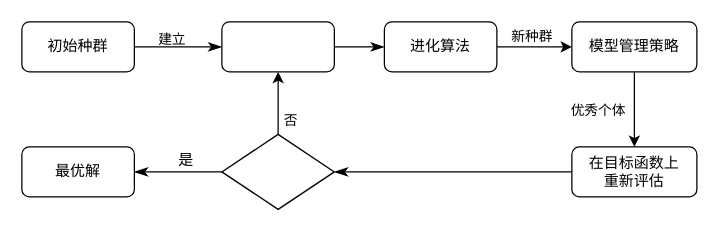
The diagram is 719 pixels wide and 231 high, and some of its shapes have lost their labels. Here are the shapes that lost their labels. From the top down, the box of each, then its label:
(221, 21, 334, 72): 更新代理模型
(221, 133, 334, 209): 是否收敛
